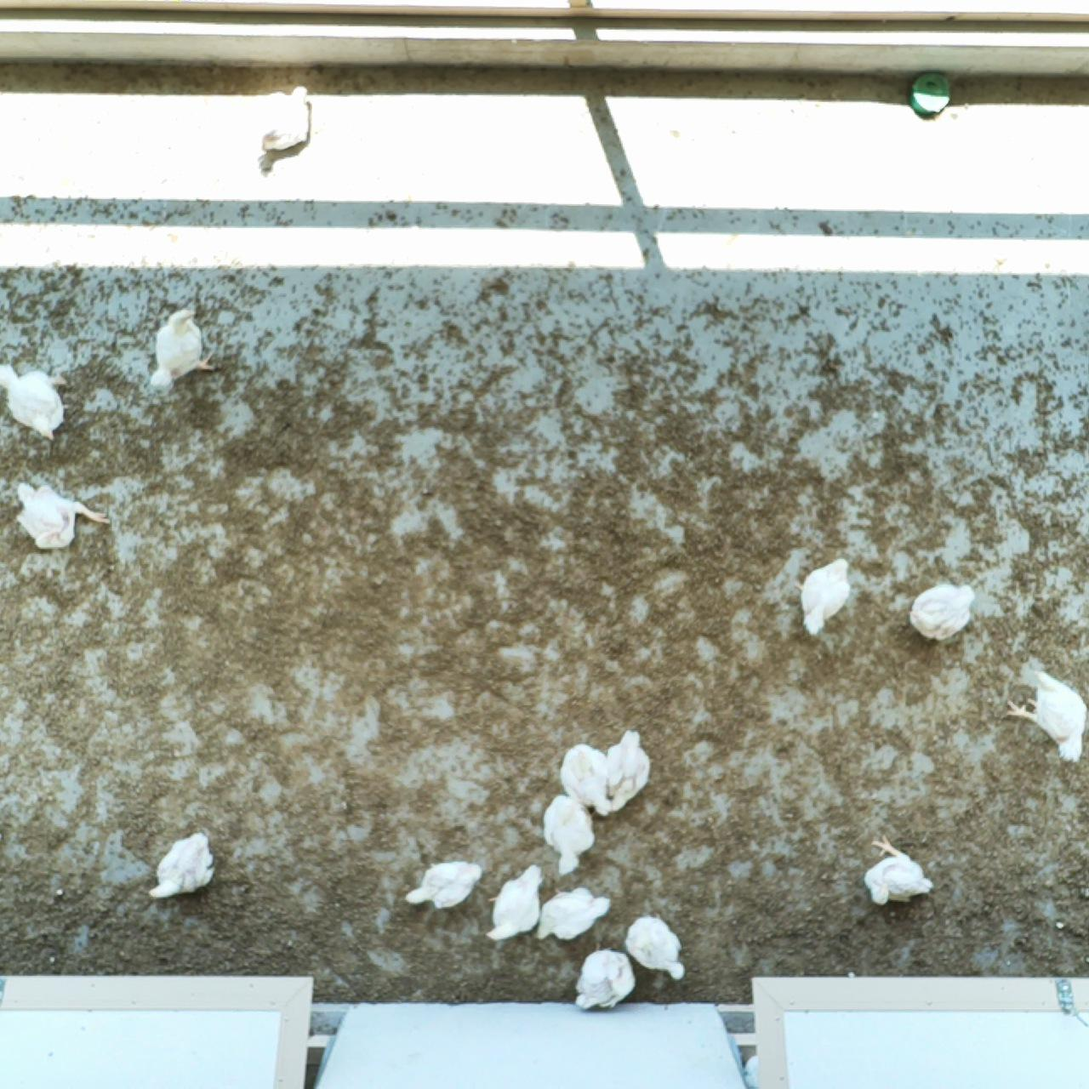chicken: (1001, 663, 1089, 767), (12, 479, 114, 556), (147, 304, 219, 401), (861, 832, 938, 917), (0, 359, 72, 444), (143, 827, 217, 905), (790, 556, 857, 640), (538, 789, 599, 880), (482, 862, 546, 947), (621, 908, 689, 985), (906, 578, 982, 646), (534, 883, 616, 944), (572, 943, 639, 1015), (401, 858, 485, 915), (252, 81, 313, 159), (557, 741, 614, 820), (605, 728, 654, 813)
